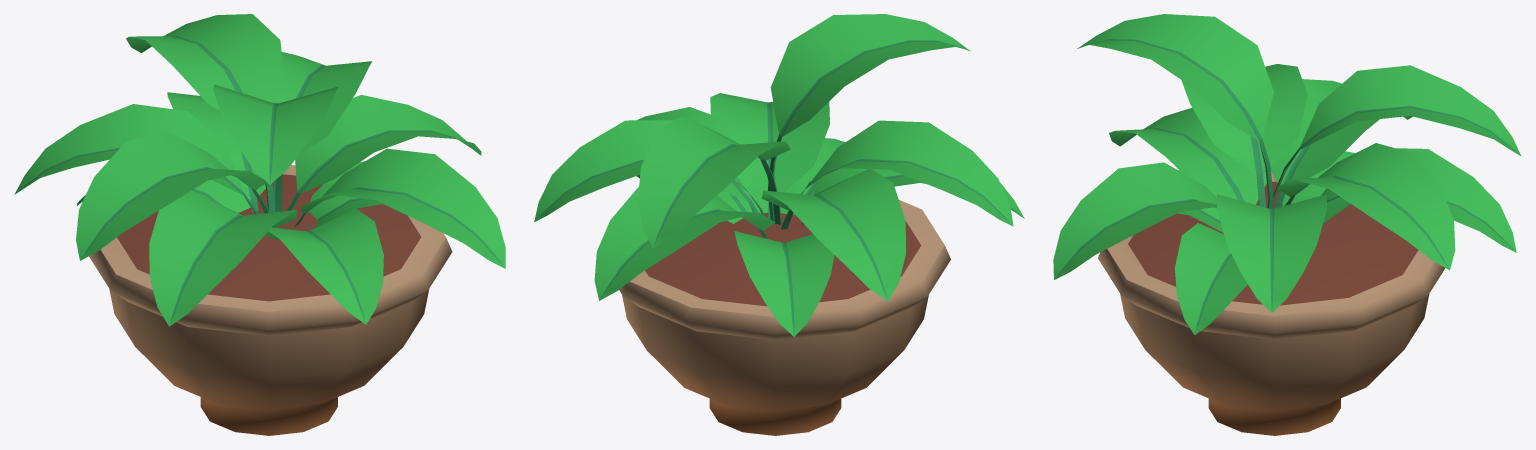
Rendered from Decor_Chaucay.fbx.
The picture shows the model from 3 angles, left to right: view 1: azimuth 30°, elevation 25°; view 2: azimuth 150°, elevation 25°; view 3: azimuth 270°, elevation 25°; orthographic projection. The views are drawn at different scales.
Parts seen in each view (by area): view 1: Decor_Chaucay; view 2: Decor_Chaucay; view 3: Decor_Chaucay.
Part boxes in pixels (x1=…): Decor_Chaucay: x1=14, y1=14, x2=505, y2=435; Decor_Chaucay: x1=534, y1=14, x2=1024, y2=435; Decor_Chaucay: x1=1053, y1=14, x2=1521, y2=435.
Bounding box in the file's own units: 326 × 263 × 319.
